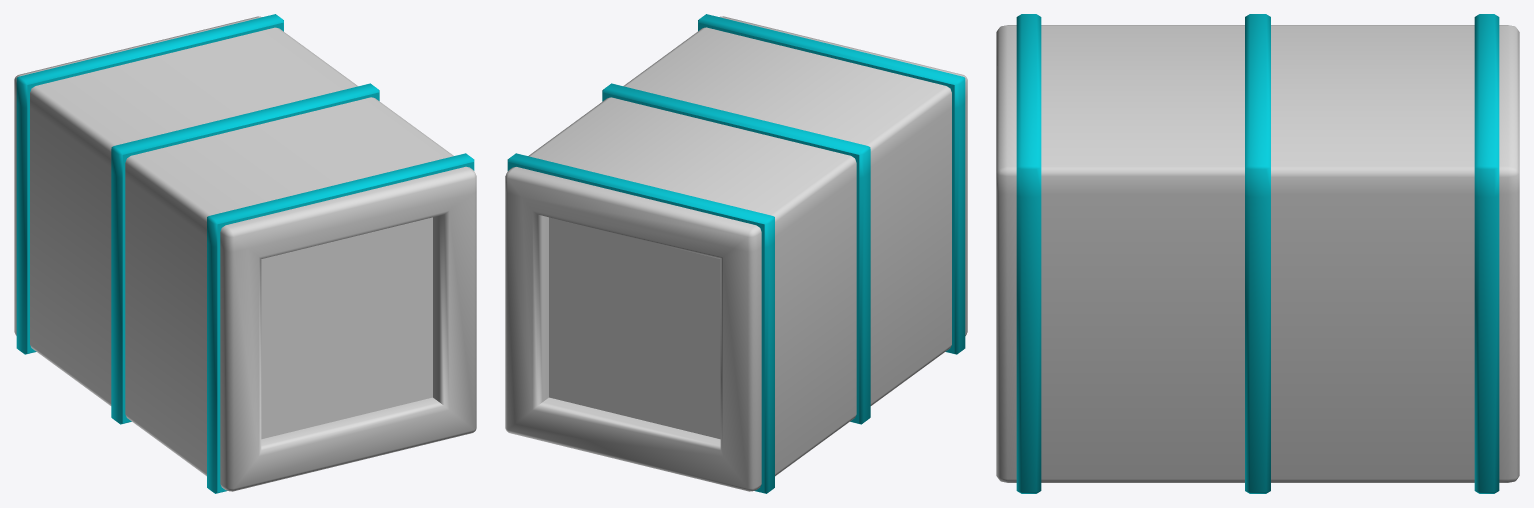
Rendered from Chest_test.fbx.
The picture shows the model from 3 angles, left to right: view 1: azimuth 30°, elevation 25°; view 2: azimuth 150°, elevation 25°; view 3: azimuth 270°, elevation 25°; orthographic projection. The views are drawn at different scales.
Parts seen in each view (by area): view 1: Chest, Chest_Lid; view 2: Chest, Chest_Lid; view 3: Chest, Chest_Lid.
Part boxes in pixels (<box>): Chest: <box>14,95,476,493</box>; Chest_Lid: <box>14,14,476,251</box>; Chest: <box>505,95,967,493</box>; Chest_Lid: <box>505,14,967,251</box>; Chest: <box>996,191,1519,493</box>; Chest_Lid: <box>996,14,1519,197</box>.
Size of the model in its own units: 83.31 by 83.31 by 120.
